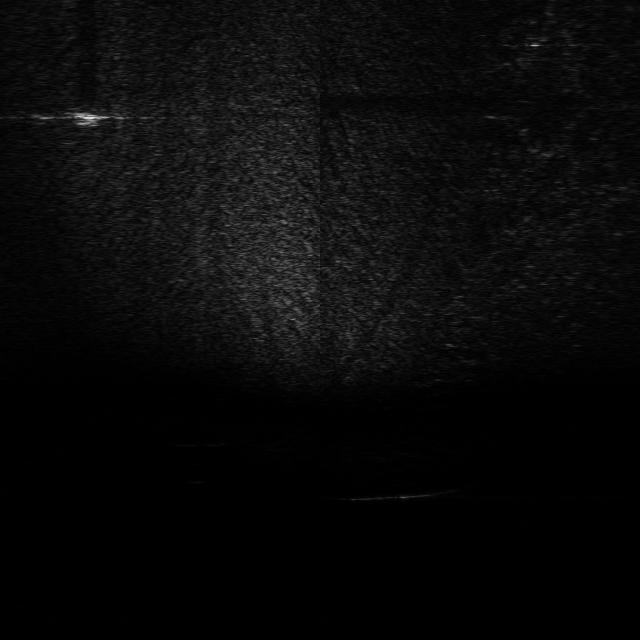cube: (70, 104, 104, 128)
